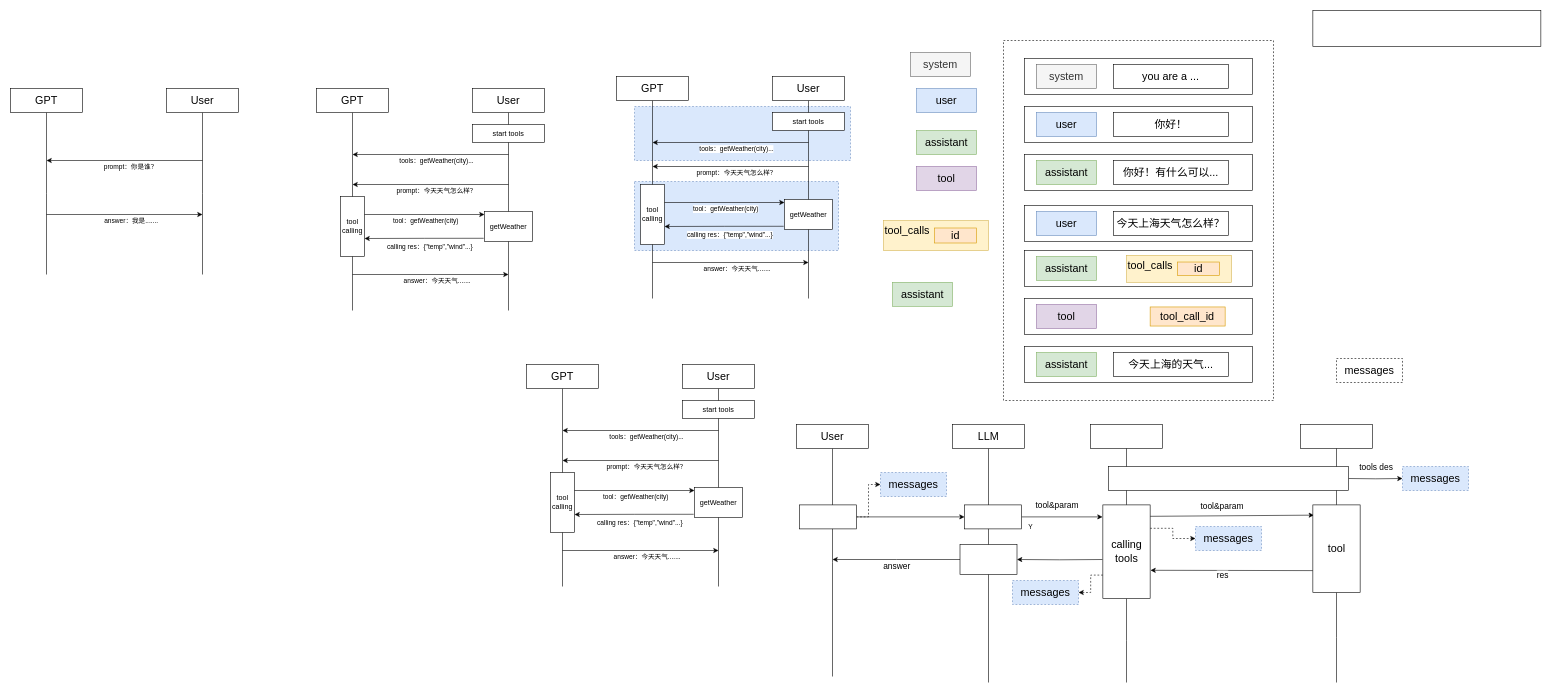
This 1552x694 diagram has some shape labels left out. Each missing label, with the centre of its shape:
call tools?: point (993, 516)
Client: point (1126, 436)
init tools: point (1228, 478)
process res: point (988, 559)
prompt: point (827, 516)
Server: point (1336, 436)
